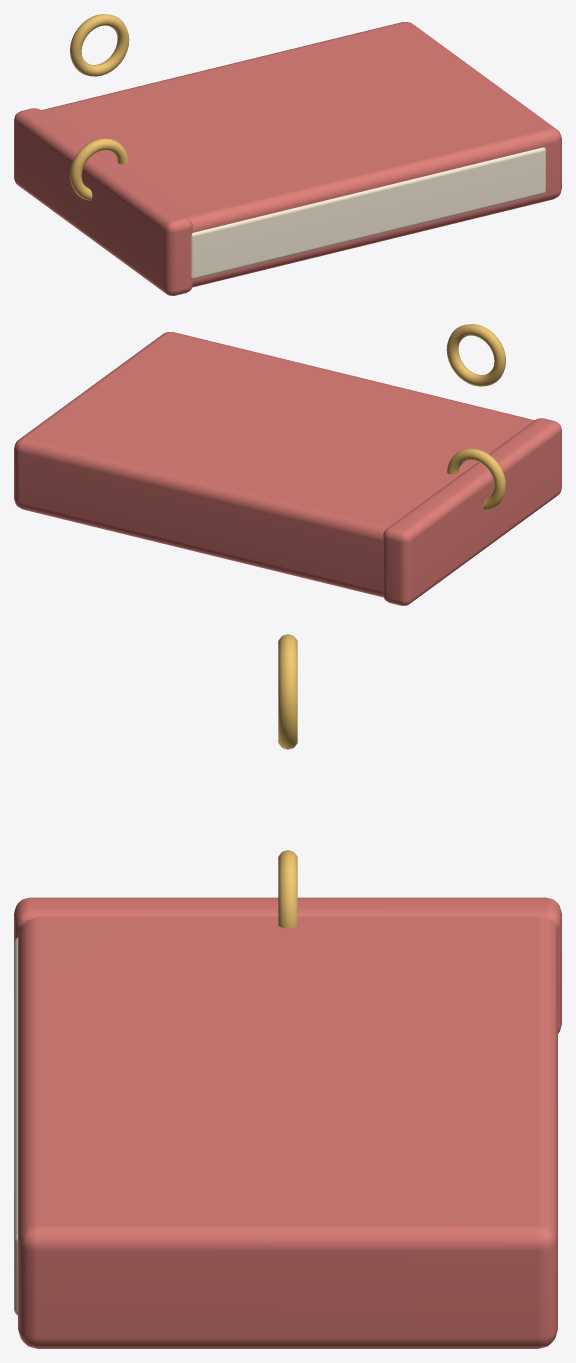
The model's file is booksRingBinderRed.glb.
3 renders of one model, top to bottom at view 1: azimuth 30°, elevation 25°; view 2: azimuth 150°, elevation 25°; view 3: azimuth 270°, elevation 25°, orthographic. The views are drawn at different scales.
Parts seen in each view (by area): view 1: Book cover, Pages, Spine, Binder ring.001, Binder ring; view 2: Book cover, Spine, Binder ring.001, Binder ring; view 3: Book cover, Spine, Binder ring.001, Binder ring, Pages.
Part boxes in pixels (x1=…): Book cover: x1=41, y1=22, x2=561, y2=287; Pages: x1=191, y1=147, x2=545, y2=279; Spine: x1=14, y1=108, x2=192, y2=295; Binder ring.001: x1=70, y1=14, x2=129, y2=76; Binder ring: x1=70, y1=138, x2=128, y2=200; Book cover: x1=14, y1=332, x2=534, y2=597; Spine: x1=383, y1=418, x2=561, y2=605; Binder ring.001: x1=446, y1=324, x2=505, y2=386; Binder ring: x1=447, y1=448, x2=505, y2=510; Book cover: x1=18, y1=916, x2=557, y2=1348; Spine: x1=14, y1=897, x2=561, y2=1033; Binder ring.001: x1=278, y1=634, x2=297, y2=749; Binder ring: x1=278, y1=850, x2=297, y2=928; Pages: x1=14, y1=938, x2=17, y2=1315.
Size of the model in its own units: 1.05 by 0.543 by 0.69.
